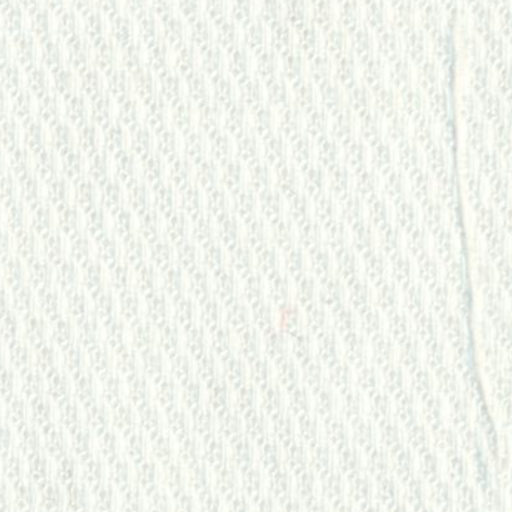DuanSha: (434, 6, 502, 468)
